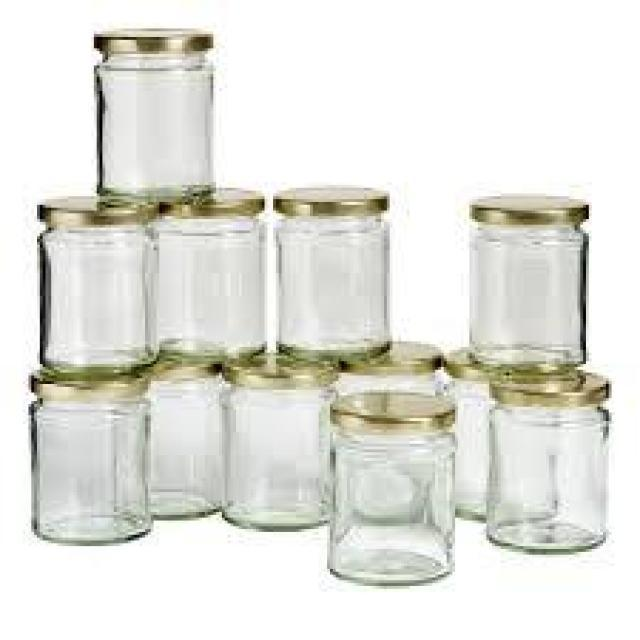Glass: (325, 390, 459, 588), (90, 25, 222, 205), (34, 194, 162, 374), (467, 192, 590, 374), (270, 184, 394, 362), (28, 372, 154, 546), (164, 187, 268, 366), (226, 360, 334, 530), (152, 368, 224, 523)
